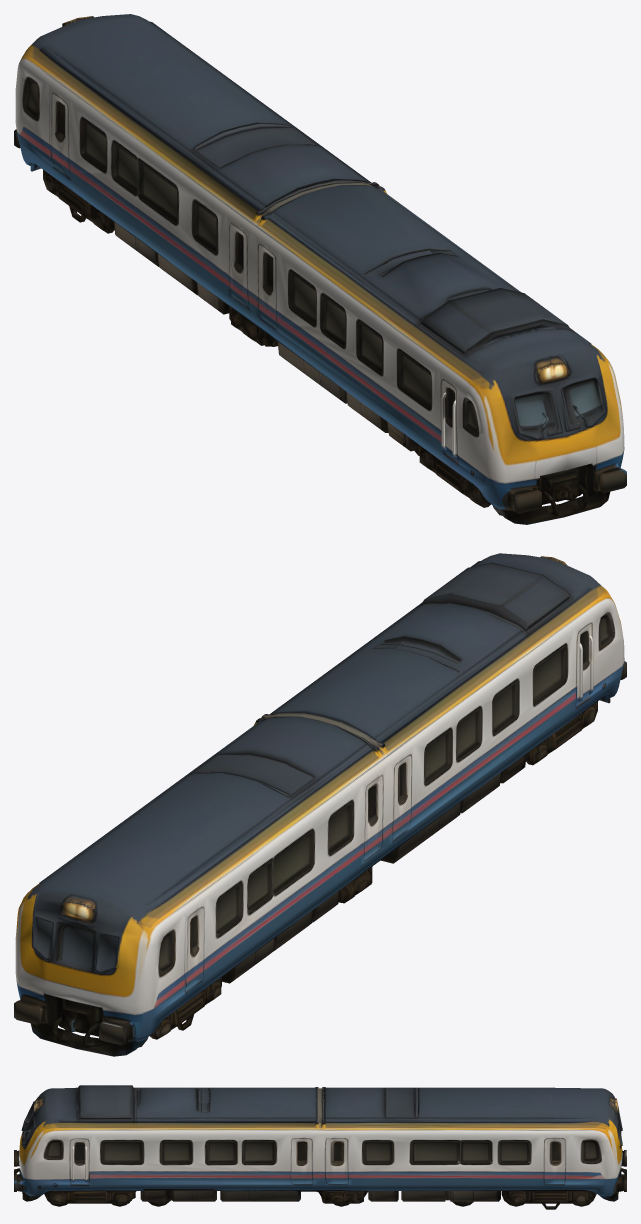
File: train-1.glb
3 views of the same model, one above another, from view 1: azimuth 30°, elevation 25°; view 2: azimuth 150°, elevation 25°; view 3: azimuth 270°, elevation 25° (orthographic). The views are drawn at different scales.
Parts seen in each view (by area): view 1: texture_pbr_20250901; view 2: texture_pbr_20250901; view 3: texture_pbr_20250901.
Part boxes in pixels (x1,y1,x2,y2): texture_pbr_20250901: (14, 14, 626, 524); texture_pbr_20250901: (14, 553, 626, 1056); texture_pbr_20250901: (14, 1085, 626, 1209).
Bounding box in the file's own units: 0.3046 × 0.3516 × 1.9.
1 material, 1 textured.
